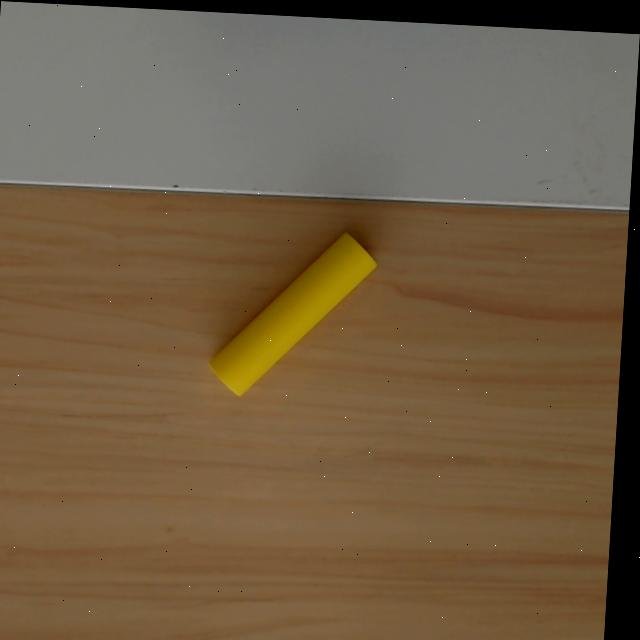Silinder-Kuning-10025: (204, 229, 378, 397)
